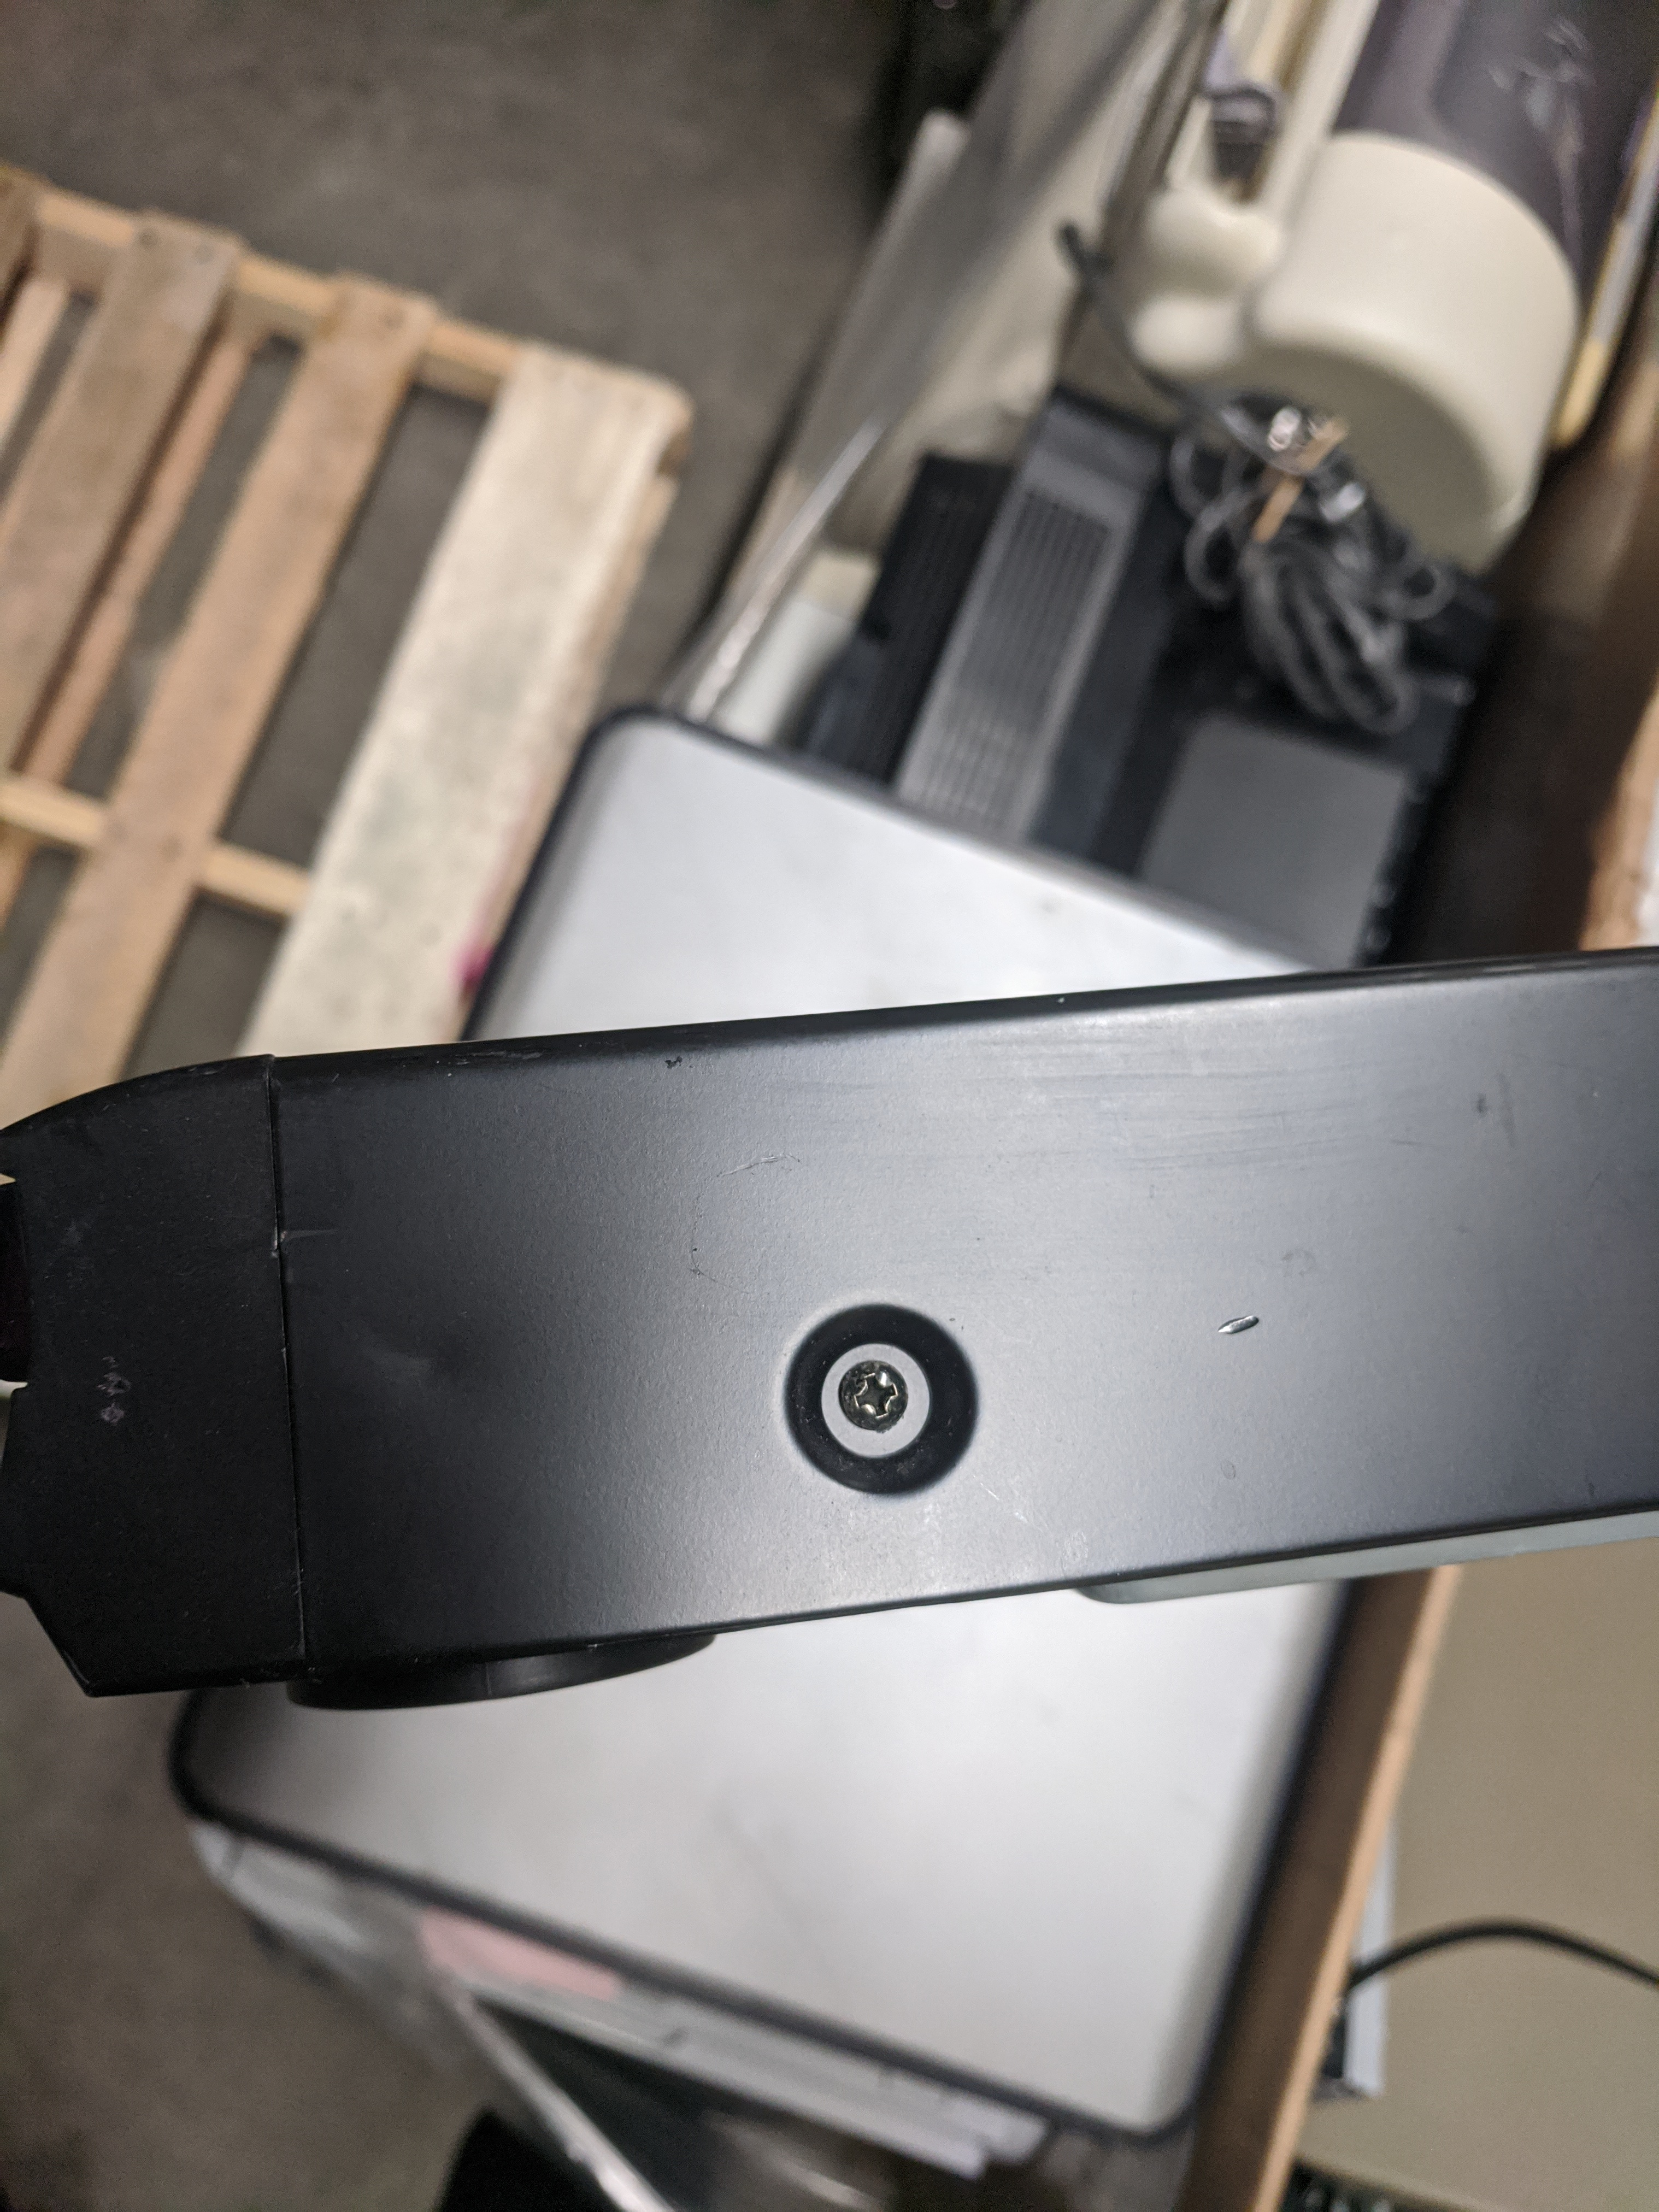cross_recessed_screw: (826, 1350, 922, 1454)
